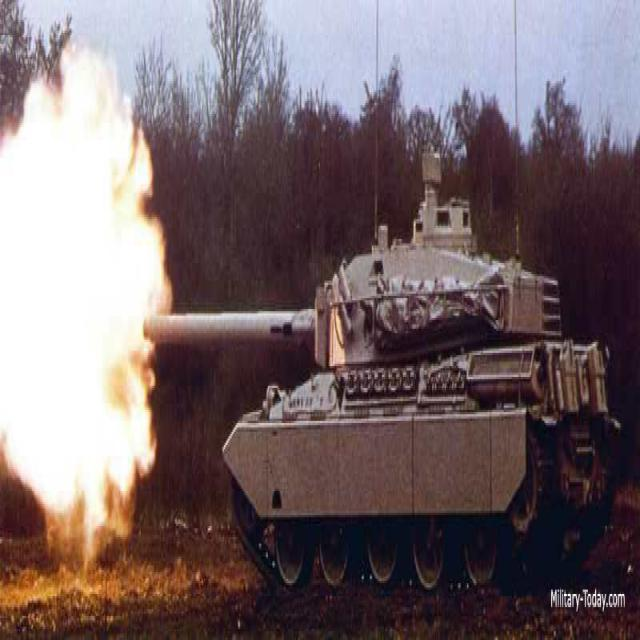Tank: (140, 160, 619, 594)
